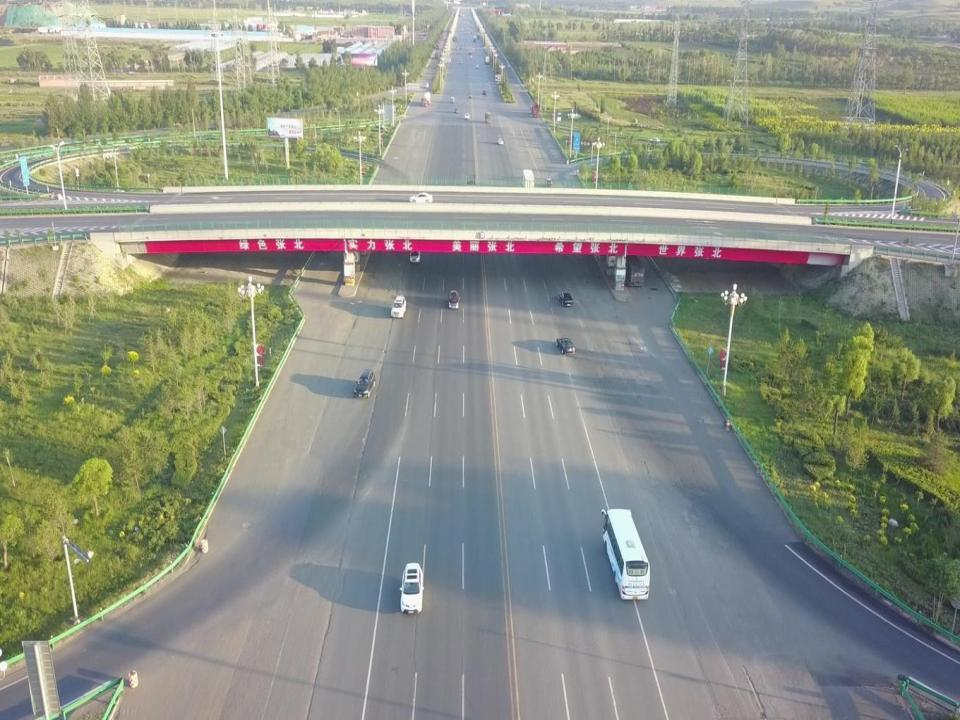bus: (597, 501, 651, 602)
car: (400, 562, 422, 613), (354, 370, 375, 398), (556, 336, 576, 357), (391, 295, 407, 319), (412, 191, 434, 207), (448, 291, 460, 309), (409, 246, 421, 264), (560, 292, 573, 306), (545, 177, 553, 187), (498, 138, 504, 145), (464, 112, 469, 120), (454, 107, 459, 113), (450, 96, 454, 103), (482, 90, 486, 94), (424, 83, 428, 87), (476, 64, 479, 69), (460, 60, 463, 64), (469, 55, 472, 58)
truck: (618, 229, 646, 286), (520, 168, 535, 195), (420, 92, 431, 108), (531, 100, 540, 118), (485, 56, 489, 63)
